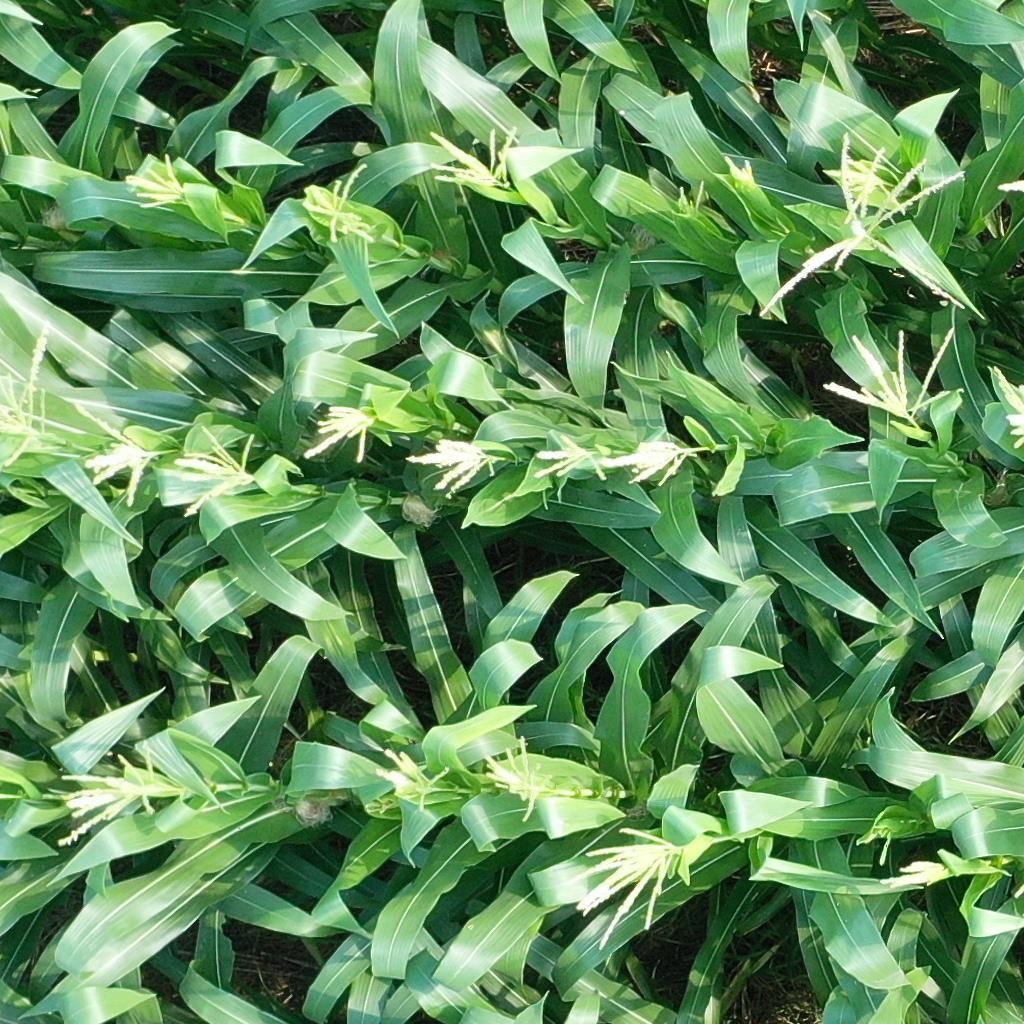Tassel: (758, 130, 965, 332), (562, 821, 691, 954), (818, 320, 963, 434), (45, 733, 175, 857), (1, 319, 74, 470), (167, 422, 264, 524), (69, 403, 159, 504), (479, 733, 566, 828), (298, 163, 385, 251), (399, 432, 504, 504), (431, 121, 522, 196), (595, 433, 693, 499), (300, 401, 392, 465), (820, 155, 905, 221), (374, 742, 451, 814), (118, 151, 193, 216), (528, 433, 605, 492), (982, 364, 1024, 449), (878, 858, 959, 898), (671, 174, 708, 221), (858, 825, 896, 869), (722, 152, 760, 192)
